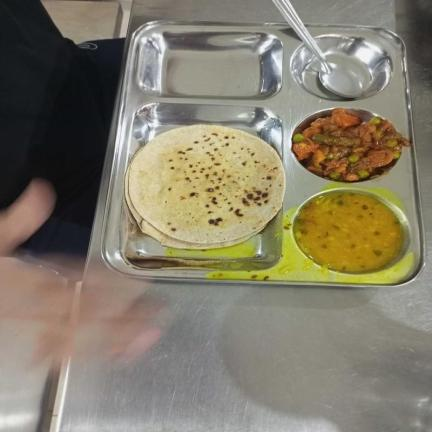Chana Dal: (296, 191, 404, 273)
Mix Veg: (293, 107, 410, 182)
Plate: (100, 19, 426, 287)
Roti: (123, 124, 286, 251)
